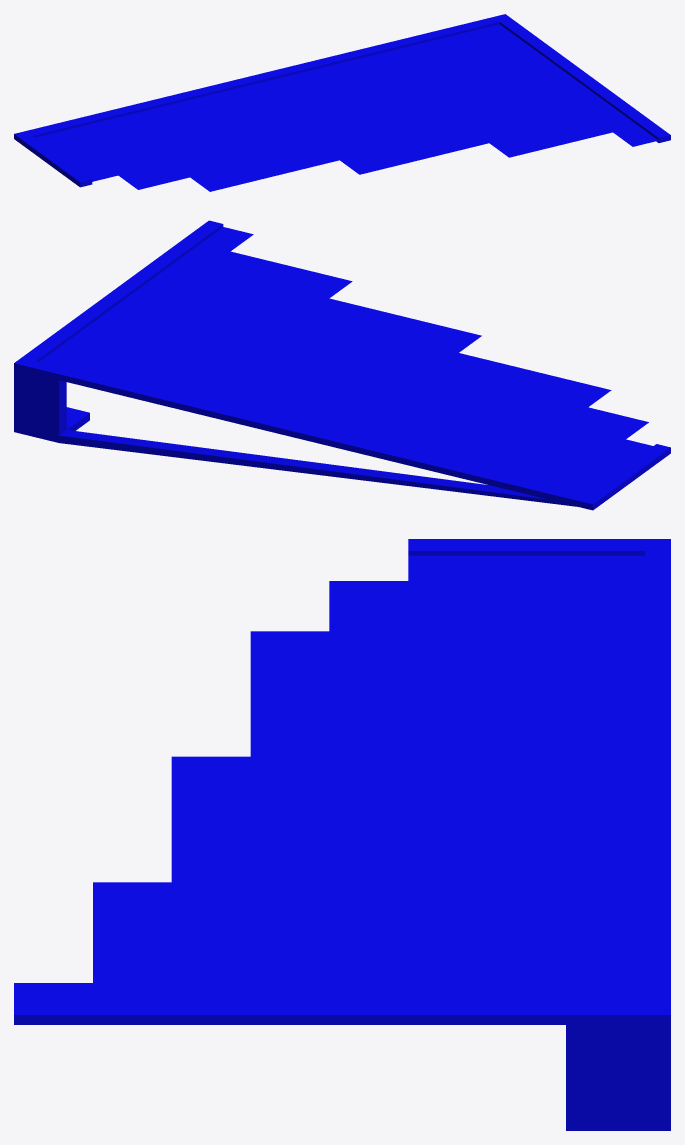
File: sub_BrokenWireNettingStool2.fbx
3 renders of one model, top to bottom at view 1: azimuth 30°, elevation 25°; view 2: azimuth 150°, elevation 25°; view 3: azimuth 270°, elevation 25°, orthographic. The views are drawn at different scales.
Visible parts, largest first — view 1: sub_BrokenWireNettingStool2; view 2: sub_BrokenWireNettingStool2; view 3: sub_BrokenWireNettingStool2.
Boxes of the visible parts, left/top/right/bottom form: sub_BrokenWireNettingStool2: left=14, top=14, right=670, bottom=191; sub_BrokenWireNettingStool2: left=14, top=220, right=670, bottom=510; sub_BrokenWireNettingStool2: left=14, top=539, right=670, bottom=1130.
Size of the model in its own units: 6.28 by 0.7139 by 3.66.
